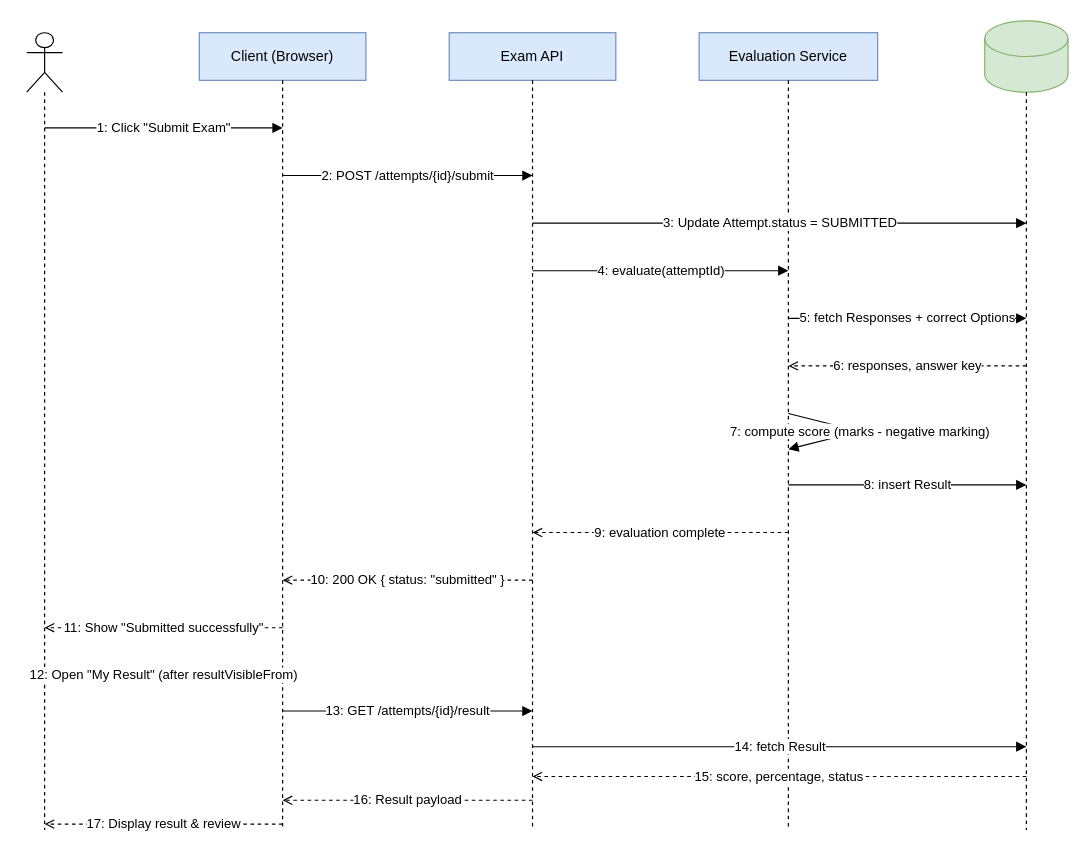
This 1089x854 diagram has some shape labels left out. The shapes that lost their labels are listed below. From the top down, each one's centre as x and y in pixels, then its label:
the point at 44,62: Student
the point at 1026,56: Database
